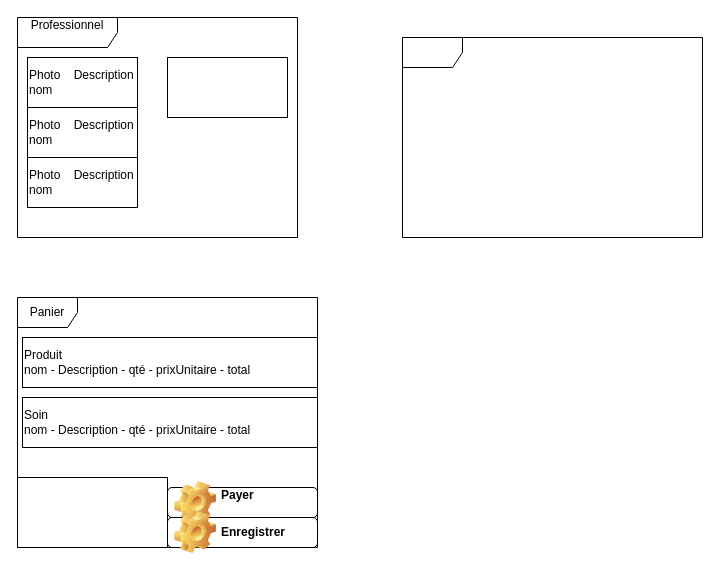
The diagram is 720 pixels wide and 565 high, and some of its shapes have lost their labels. Each missing label, with the box of its shape:
Acccueil: (402, 36, 702, 238)
Nom: __________ Tel:__________ Email:__________ Adresse:__________: (16, 476, 168, 548)
voir Produit voir Soin voir Panier: (166, 56, 288, 118)
